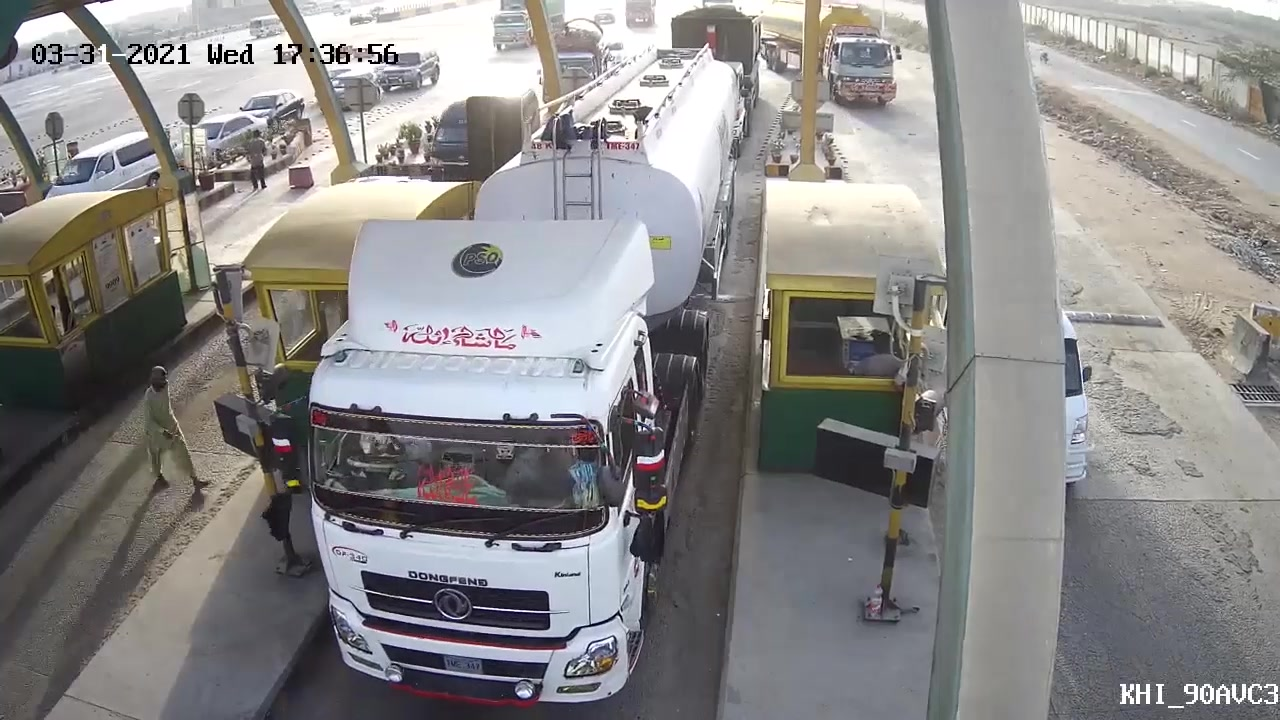F6: (286, 48, 753, 708)
